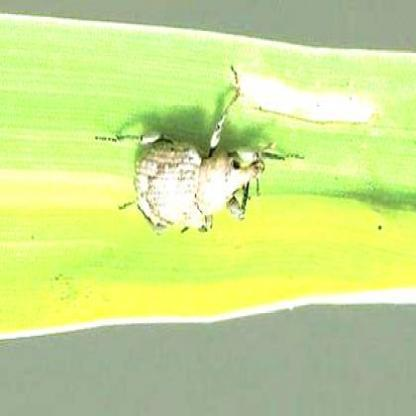rice-bug: (117, 86, 279, 242)
